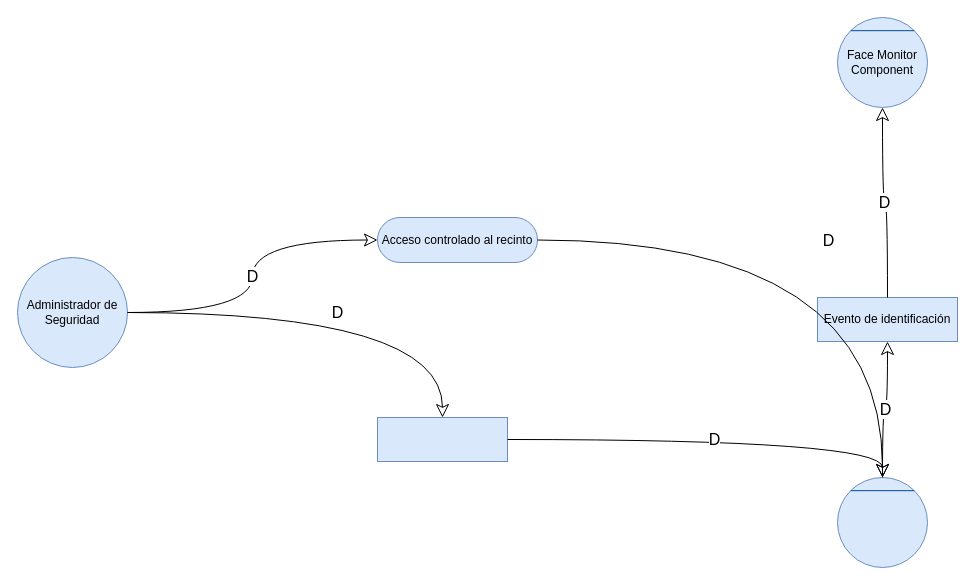
The diagram is 975 pixels wide and 585 high, and some of its shapes have lost their labels. The shapes that lost their labels are listed below. From the top down, each one's centre as x and y in pixels, then its label:
the point at 442,439: Registro de accesos
the point at 882,522: Access Actuator Component
